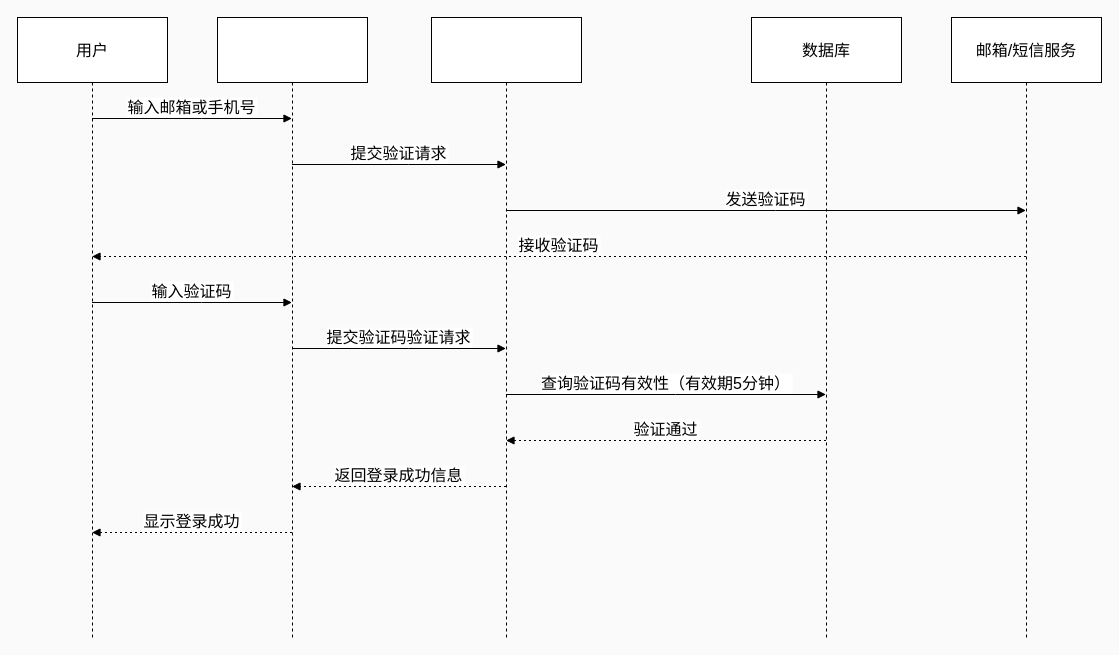
This 1119x655 diagram has some shape labels left out. Here are the shapes that lost their labels. From the top down, the box of each, then its label:
(216, 16, 368, 638): 登录页面
(430, 16, 582, 638): 后端服务
